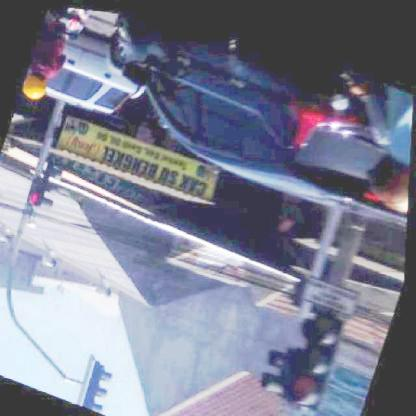Traffic Light -Red-: (280, 294, 350, 408)
